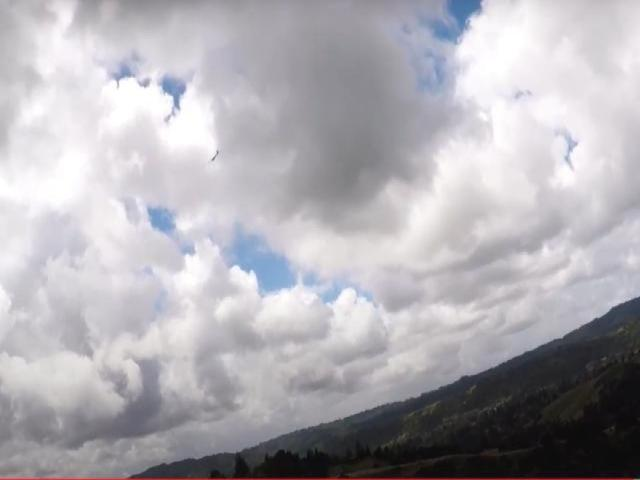iha: (210, 148, 220, 165)
